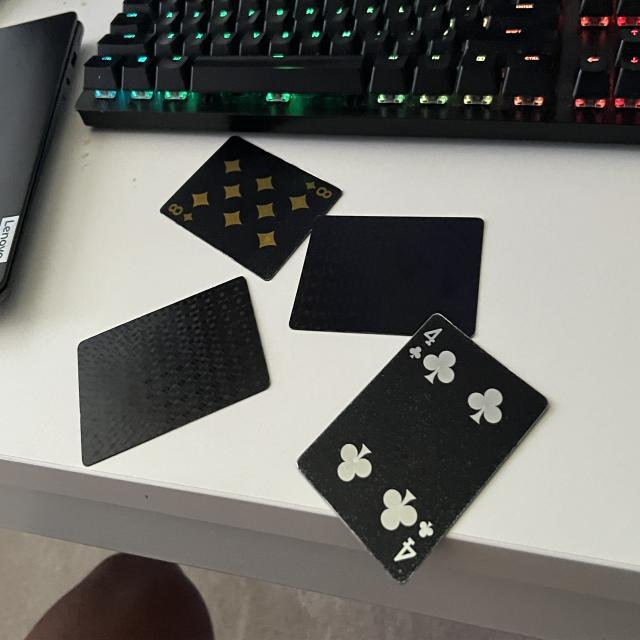4C: (389, 516, 434, 568), (408, 324, 444, 362)
8D: (306, 177, 337, 202), (167, 202, 194, 226)
BACK: (75, 268, 277, 474), (288, 215, 487, 341)
